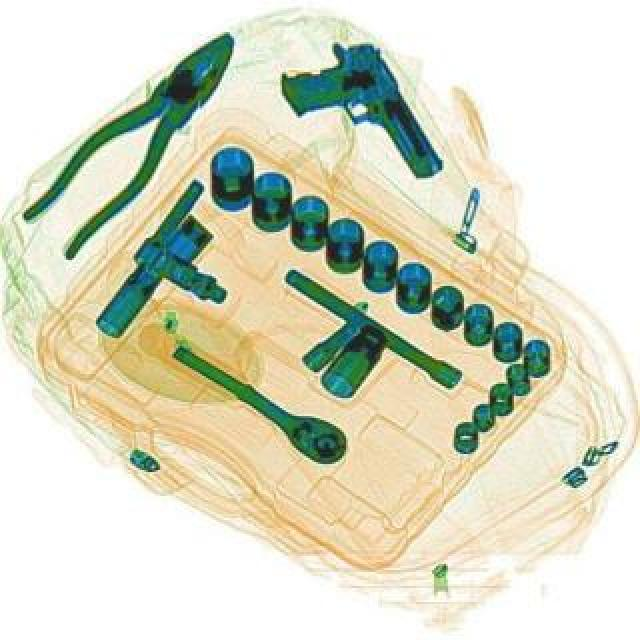gun: (268, 26, 444, 212)
wrench: (12, 16, 264, 262)
